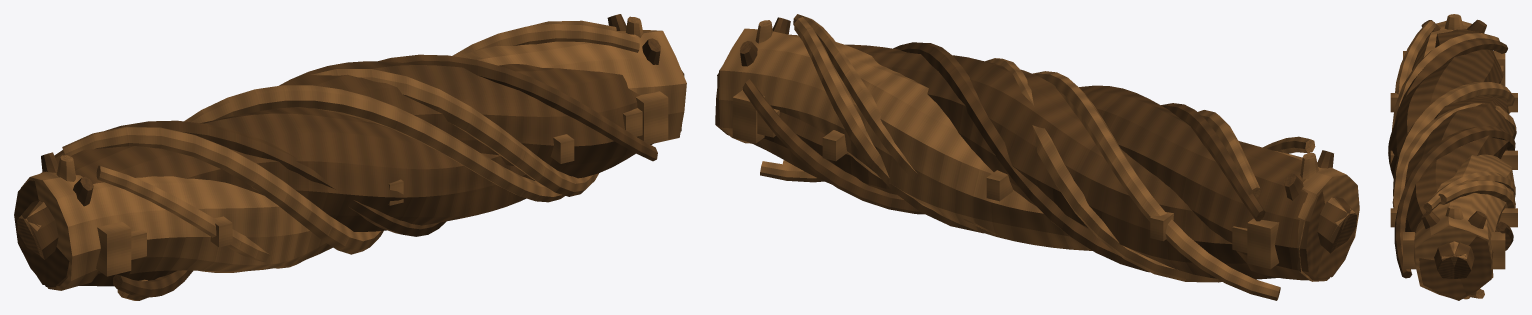
The model's file is rootforged-worldroot-beam-4m.glb.
The picture shows the model from 3 angles, left to right: view 1: azimuth 30°, elevation 25°; view 2: azimuth 150°, elevation 25°; view 3: azimuth 270°, elevation 25°; orthographic projection. The views are drawn at different scales.
Parts seen in each view (by area): view 1: braided-root-1, braided-root-0, braided-root-2, bark-ridge-3, surface-root-vein-0, bark-ridge-1, surface-root-vein-1, bark-ridge-2, bark-ridge-0, end-key-block-0, grown-foot-0-0, end-key-block-1 (+6 smaller); view 2: braided-root-1, braided-root-2, braided-root-0, bark-ridge-3, bark-ridge-0, surface-root-vein-0, bark-ridge-2, surface-root-vein-1, bark-ridge-1, end-key-block-0, grown-foot-0-2, end-key-block-1 (+5 smaller); view 3: braided-root-2, braided-root-0, braided-root-1, bark-ridge-2, surface-root-vein-0, bark-ridge-3, bark-ridge-1, bark-ridge-0, surface-root-vein-1, end-key-block-1, grown-foot-1-2, grown-foot-1-0 (+7 smaller).
Part boxes in pixels (x1,y1,x2,y2): braided-root-1: (20, 30, 686, 290); braided-root-0: (14, 107, 535, 287); braided-root-2: (28, 61, 681, 286); bark-ridge-3: (184, 85, 564, 202); surface-root-vein-0: (62, 20, 616, 254); bark-ridge-1: (96, 24, 639, 268); surface-root-vein-1: (117, 69, 598, 300); bark-ridge-2: (113, 54, 657, 297); bark-ridge-0: (54, 120, 446, 236); end-key-block-0: (96, 222, 131, 276); grown-foot-0-0: (23, 176, 93, 259); end-key-block-1: (635, 91, 668, 144); braided-root-1: (719, 28, 1359, 281); braided-root-2: (845, 44, 1354, 279); braided-root-0: (715, 67, 1329, 280); bark-ridge-3: (760, 71, 1280, 300); bark-ridge-0: (742, 79, 1265, 221); surface-root-vein-0: (794, 17, 1260, 233); bark-ridge-2: (893, 42, 1149, 272); surface-root-vein-1: (782, 58, 1221, 282); bark-ridge-1: (793, 14, 1315, 234); end-key-block-0: (1247, 218, 1279, 269); grown-foot-0-2: (1283, 173, 1351, 253); end-key-block-1: (732, 90, 764, 143); braided-root-2: (1404, 96, 1514, 298); braided-root-0: (1388, 28, 1503, 300); braided-root-1: (1412, 21, 1514, 297); bark-ridge-2: (1394, 126, 1515, 278); surface-root-vein-0: (1392, 33, 1515, 208); bark-ridge-3: (1393, 82, 1514, 298); bark-ridge-1: (1395, 20, 1515, 211); bark-ridge-0: (1394, 38, 1513, 250); surface-root-vein-1: (1392, 103, 1516, 299); end-key-block-1: (1403, 232, 1505, 269); grown-foot-1-2: (1442, 211, 1486, 278); grown-foot-1-0: (1421, 211, 1465, 278).
Bounding box in the file's own units: 4 × 1 × 1.
2 materials, 2 textured.
